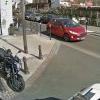Motorcycle: (2, 42, 27, 96)
